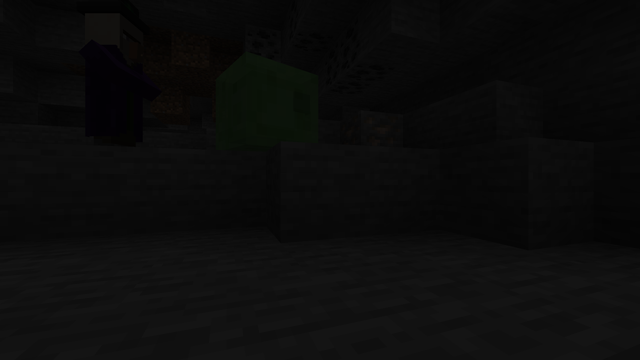slimes: (224, 49, 314, 154)
sorcieres: (78, 0, 145, 125)
